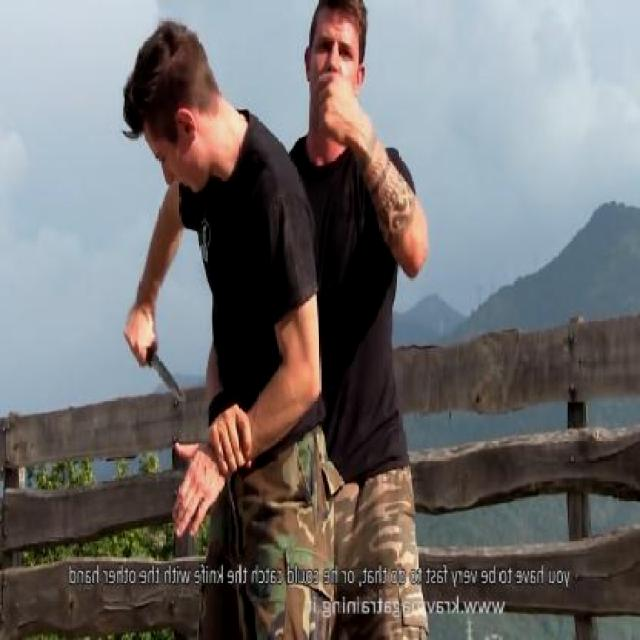knife: (118, 311, 191, 409)
